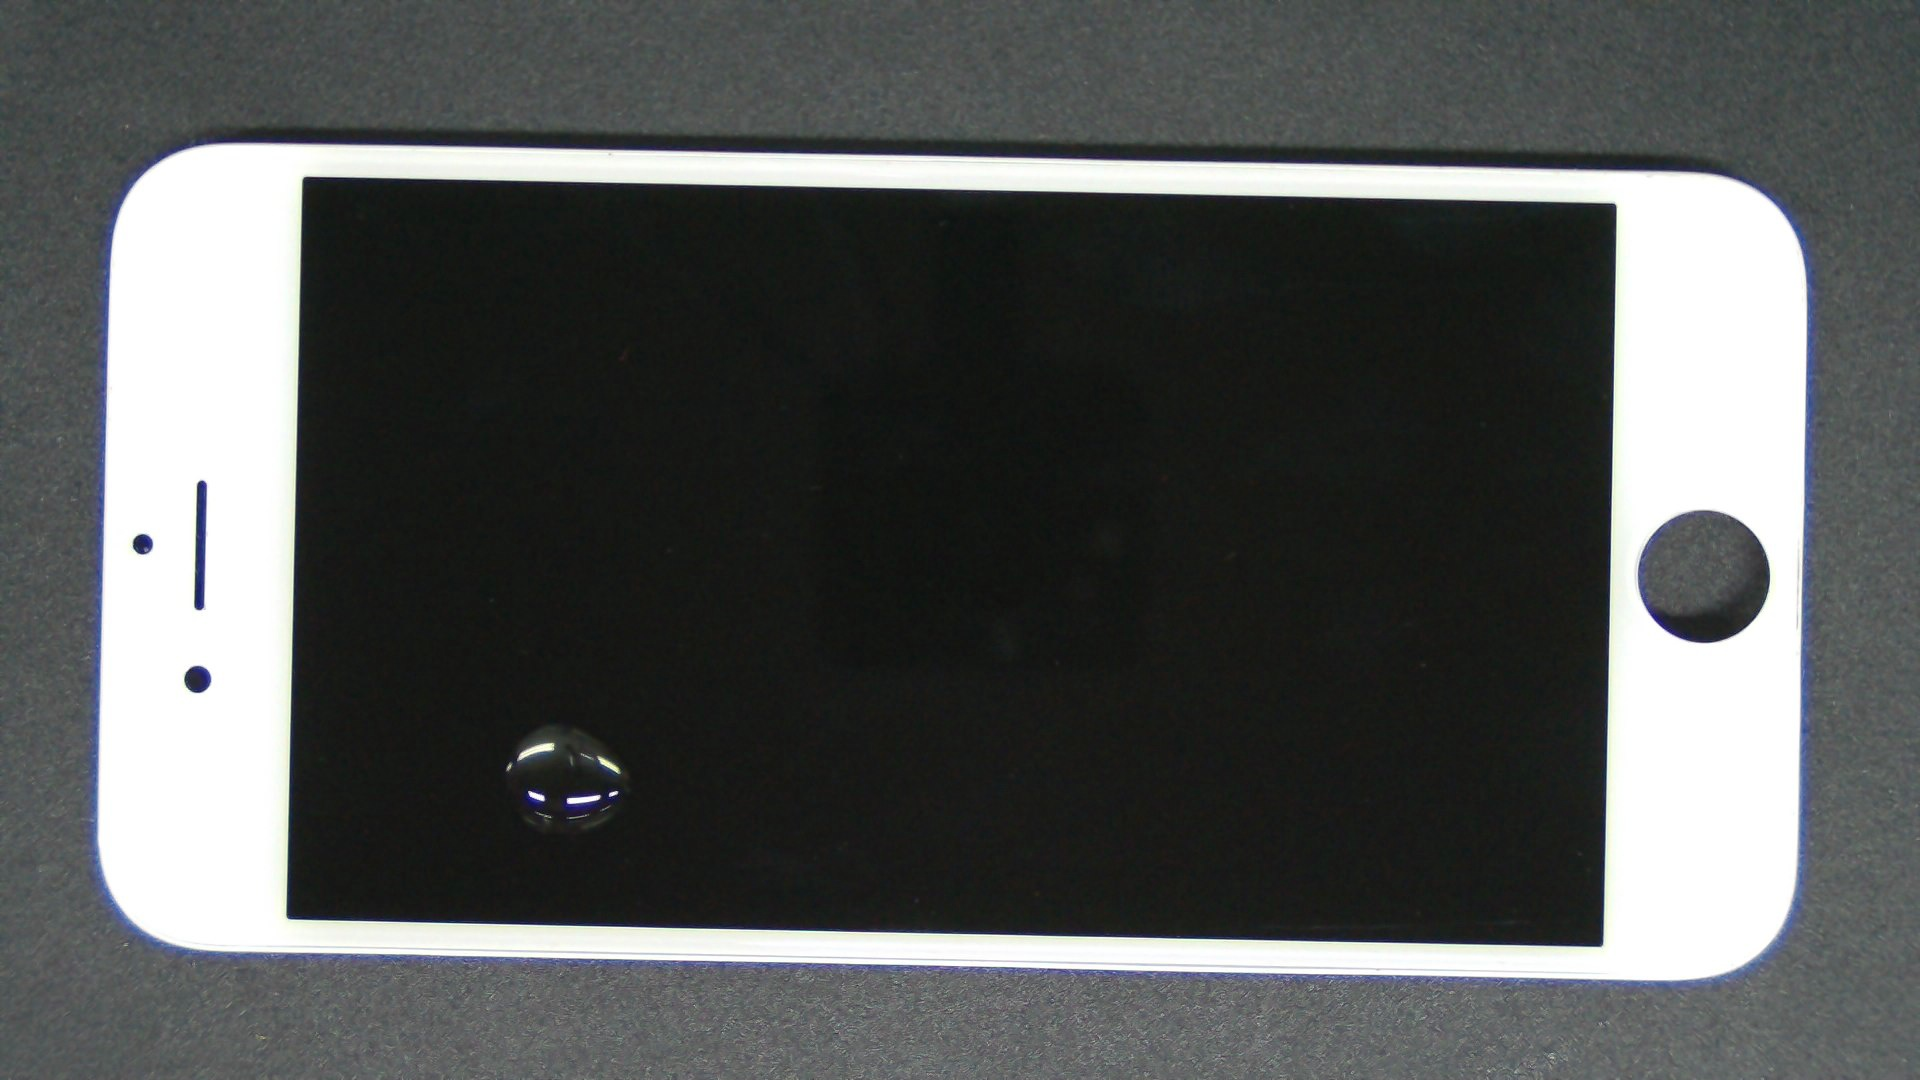oil: (278, 361, 833, 1080)
